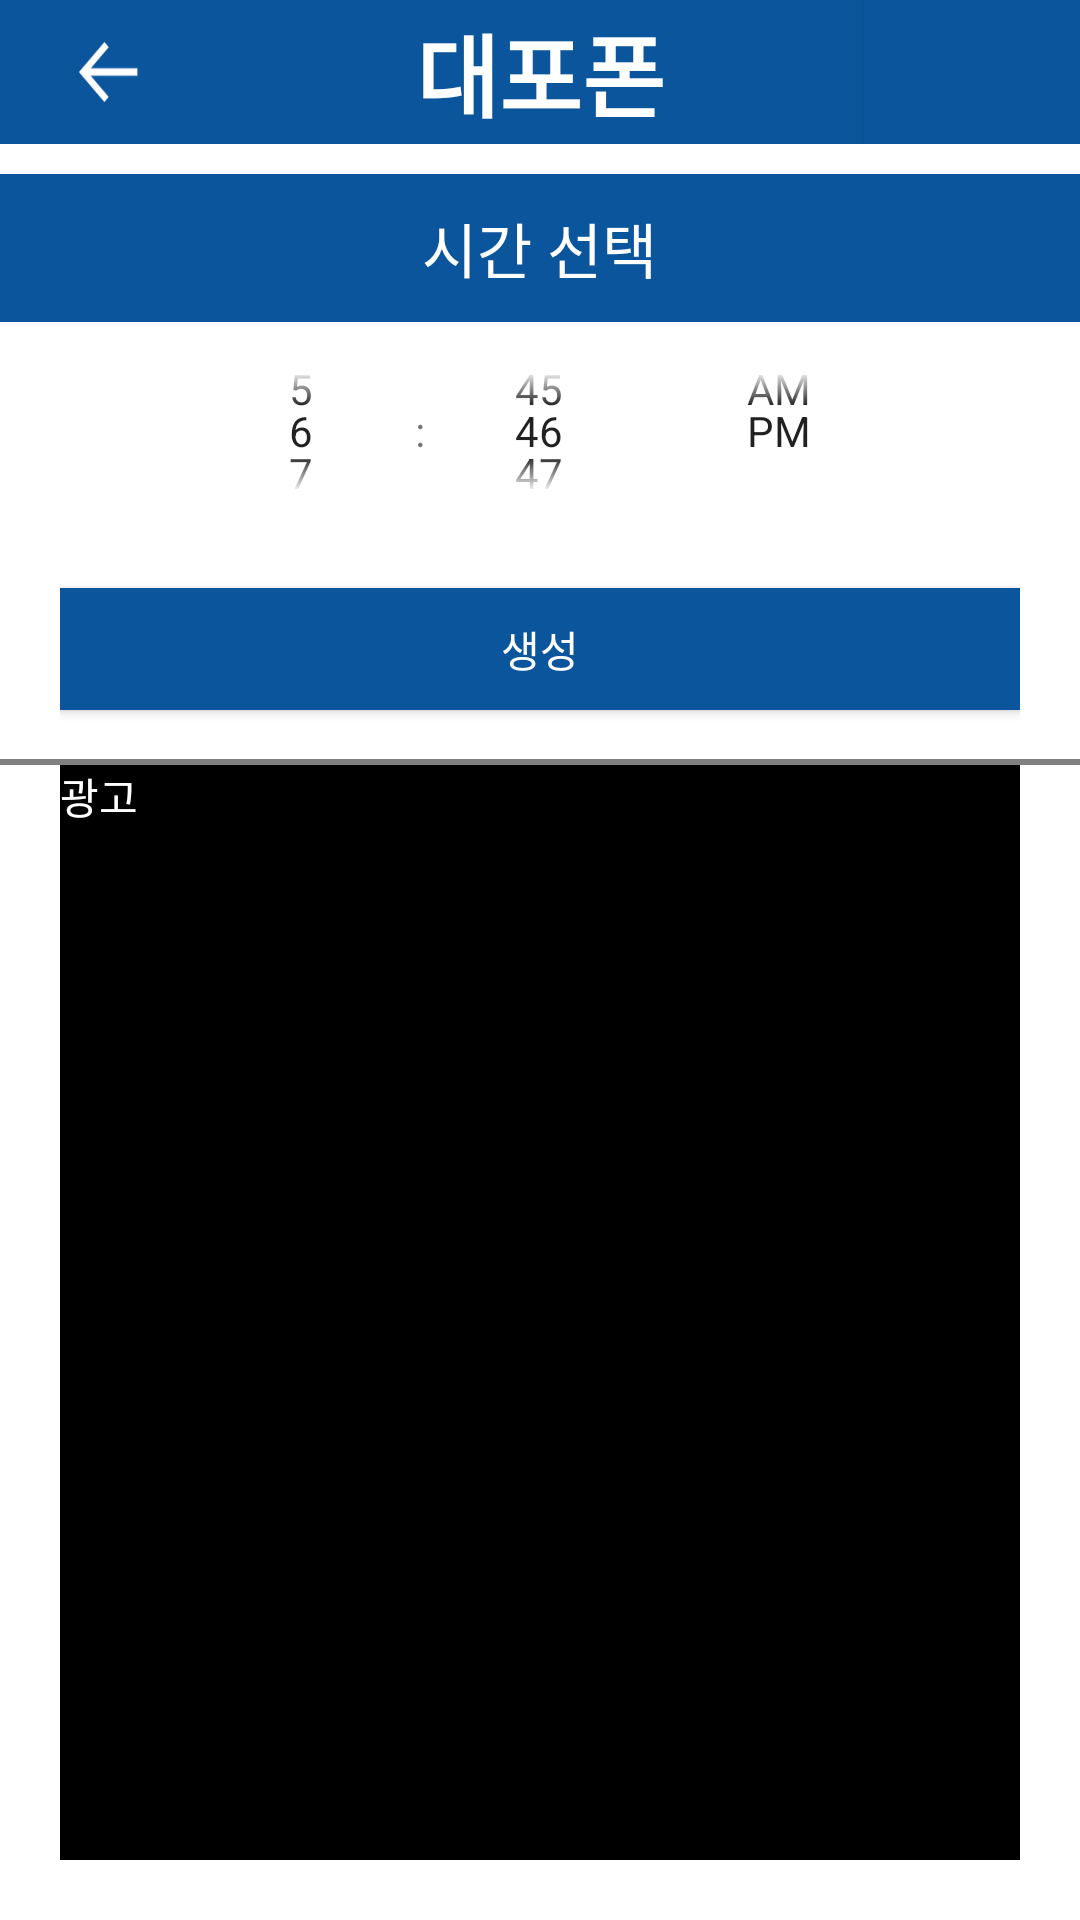

Icon bounding boxes for this 1080*1920 phone screenshot, format (x1,y1,x2,y2):
back arrow resize: (79,42,138,102)
